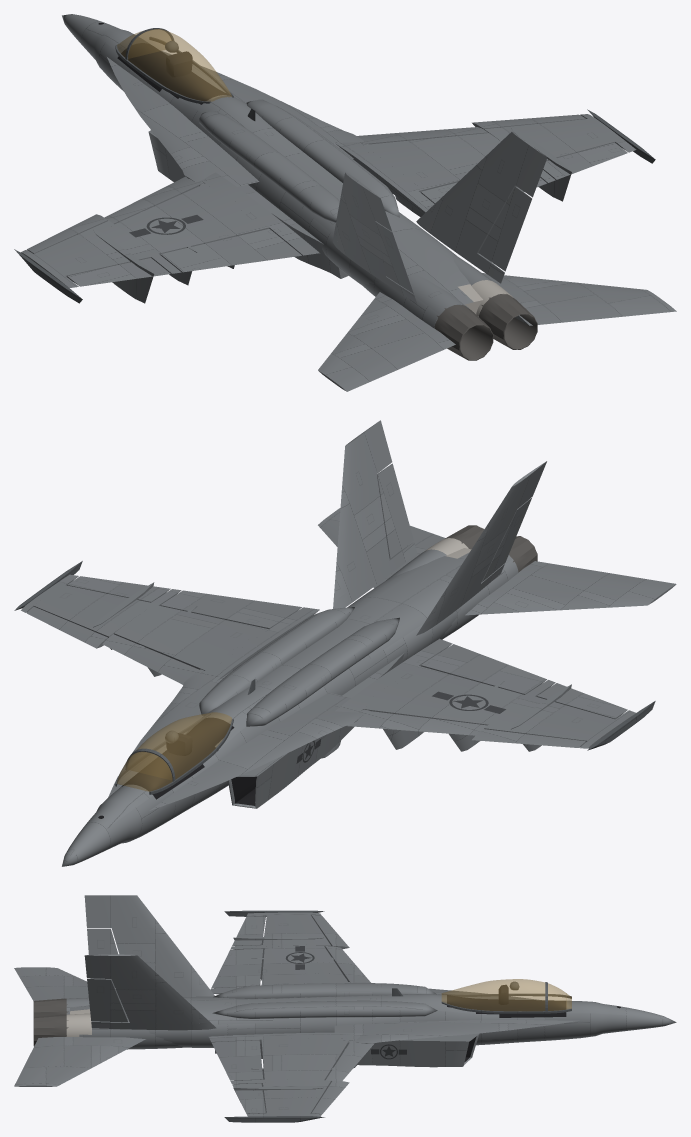
3 renders of one model, top to bottom at view 1: azimuth 30°, elevation 25°; view 2: azimuth 150°, elevation 25°; view 3: azimuth 270°, elevation 25°, orthographic. The views are drawn at different scales.
Visible parts, largest first — view 1: body, opt_cft, elevator_L, elevator_R, canopy, flap_L, rudder_R, flap_le_L, flap_le_R, aileron_L, aileron_R, rudder_L; view 2: body, opt_cft, elevator_L, canopy, flap_le_L, flap_L, flap_R, flap_le_R, rudder_R, aileron_L, aileron_R, elevator_R (+1 smaller); view 3: body, opt_cft, elevator_R, canopy, elevator_L, flap_R, flap_L, rudder_R, flap_le_R, flap_le_L, rudder_L, aileron_R (+1 smaller).
Boxes of the visible parts, x1,y1,x2,y2 form: body: (14, 14, 655, 360); opt_cft: (199, 99, 399, 222); elevator_L: (318, 292, 455, 391); elevator_R: (482, 273, 676, 325); canopy: (125, 29, 233, 103); flap_L: (160, 229, 301, 272); rudder_R: (478, 186, 531, 271); flap_le_L: (27, 176, 203, 253); flap_le_R: (357, 114, 585, 144); aileron_L: (67, 258, 170, 286); aileron_R: (543, 142, 627, 179); rudder_L: (375, 221, 413, 293); body: (14, 420, 655, 866); opt_cft: (199, 607, 399, 726); elevator_L: (465, 561, 676, 615); canopy: (127, 712, 233, 783); flap_le_L: (347, 710, 585, 747); flap_L: (421, 644, 546, 694); flap_R: (160, 590, 301, 629); flap_le_R: (27, 606, 202, 684); rudder_R: (377, 463, 413, 558); aileron_L: (537, 683, 627, 719); aileron_R: (67, 576, 170, 602); elevator_R: (318, 508, 445, 588); body: (33, 895, 676, 1122); opt_cft: (212, 983, 437, 1018); elevator_R: (14, 1037, 145, 1086); canopy: (441, 979, 546, 1013); elevator_L: (14, 967, 88, 1000); flap_R: (211, 1040, 263, 1080); flap_L: (211, 948, 263, 988); rudder_R: (87, 978, 128, 1022); flap_le_R: (311, 1040, 373, 1114); flap_le_L: (311, 915, 370, 982); rudder_L: (87, 928, 117, 987); aileron_R: (232, 1083, 265, 1113).
Bounding box in the file's own units: 13.53 × 4.09 × 18.3.
8 materials, 2 textured.
